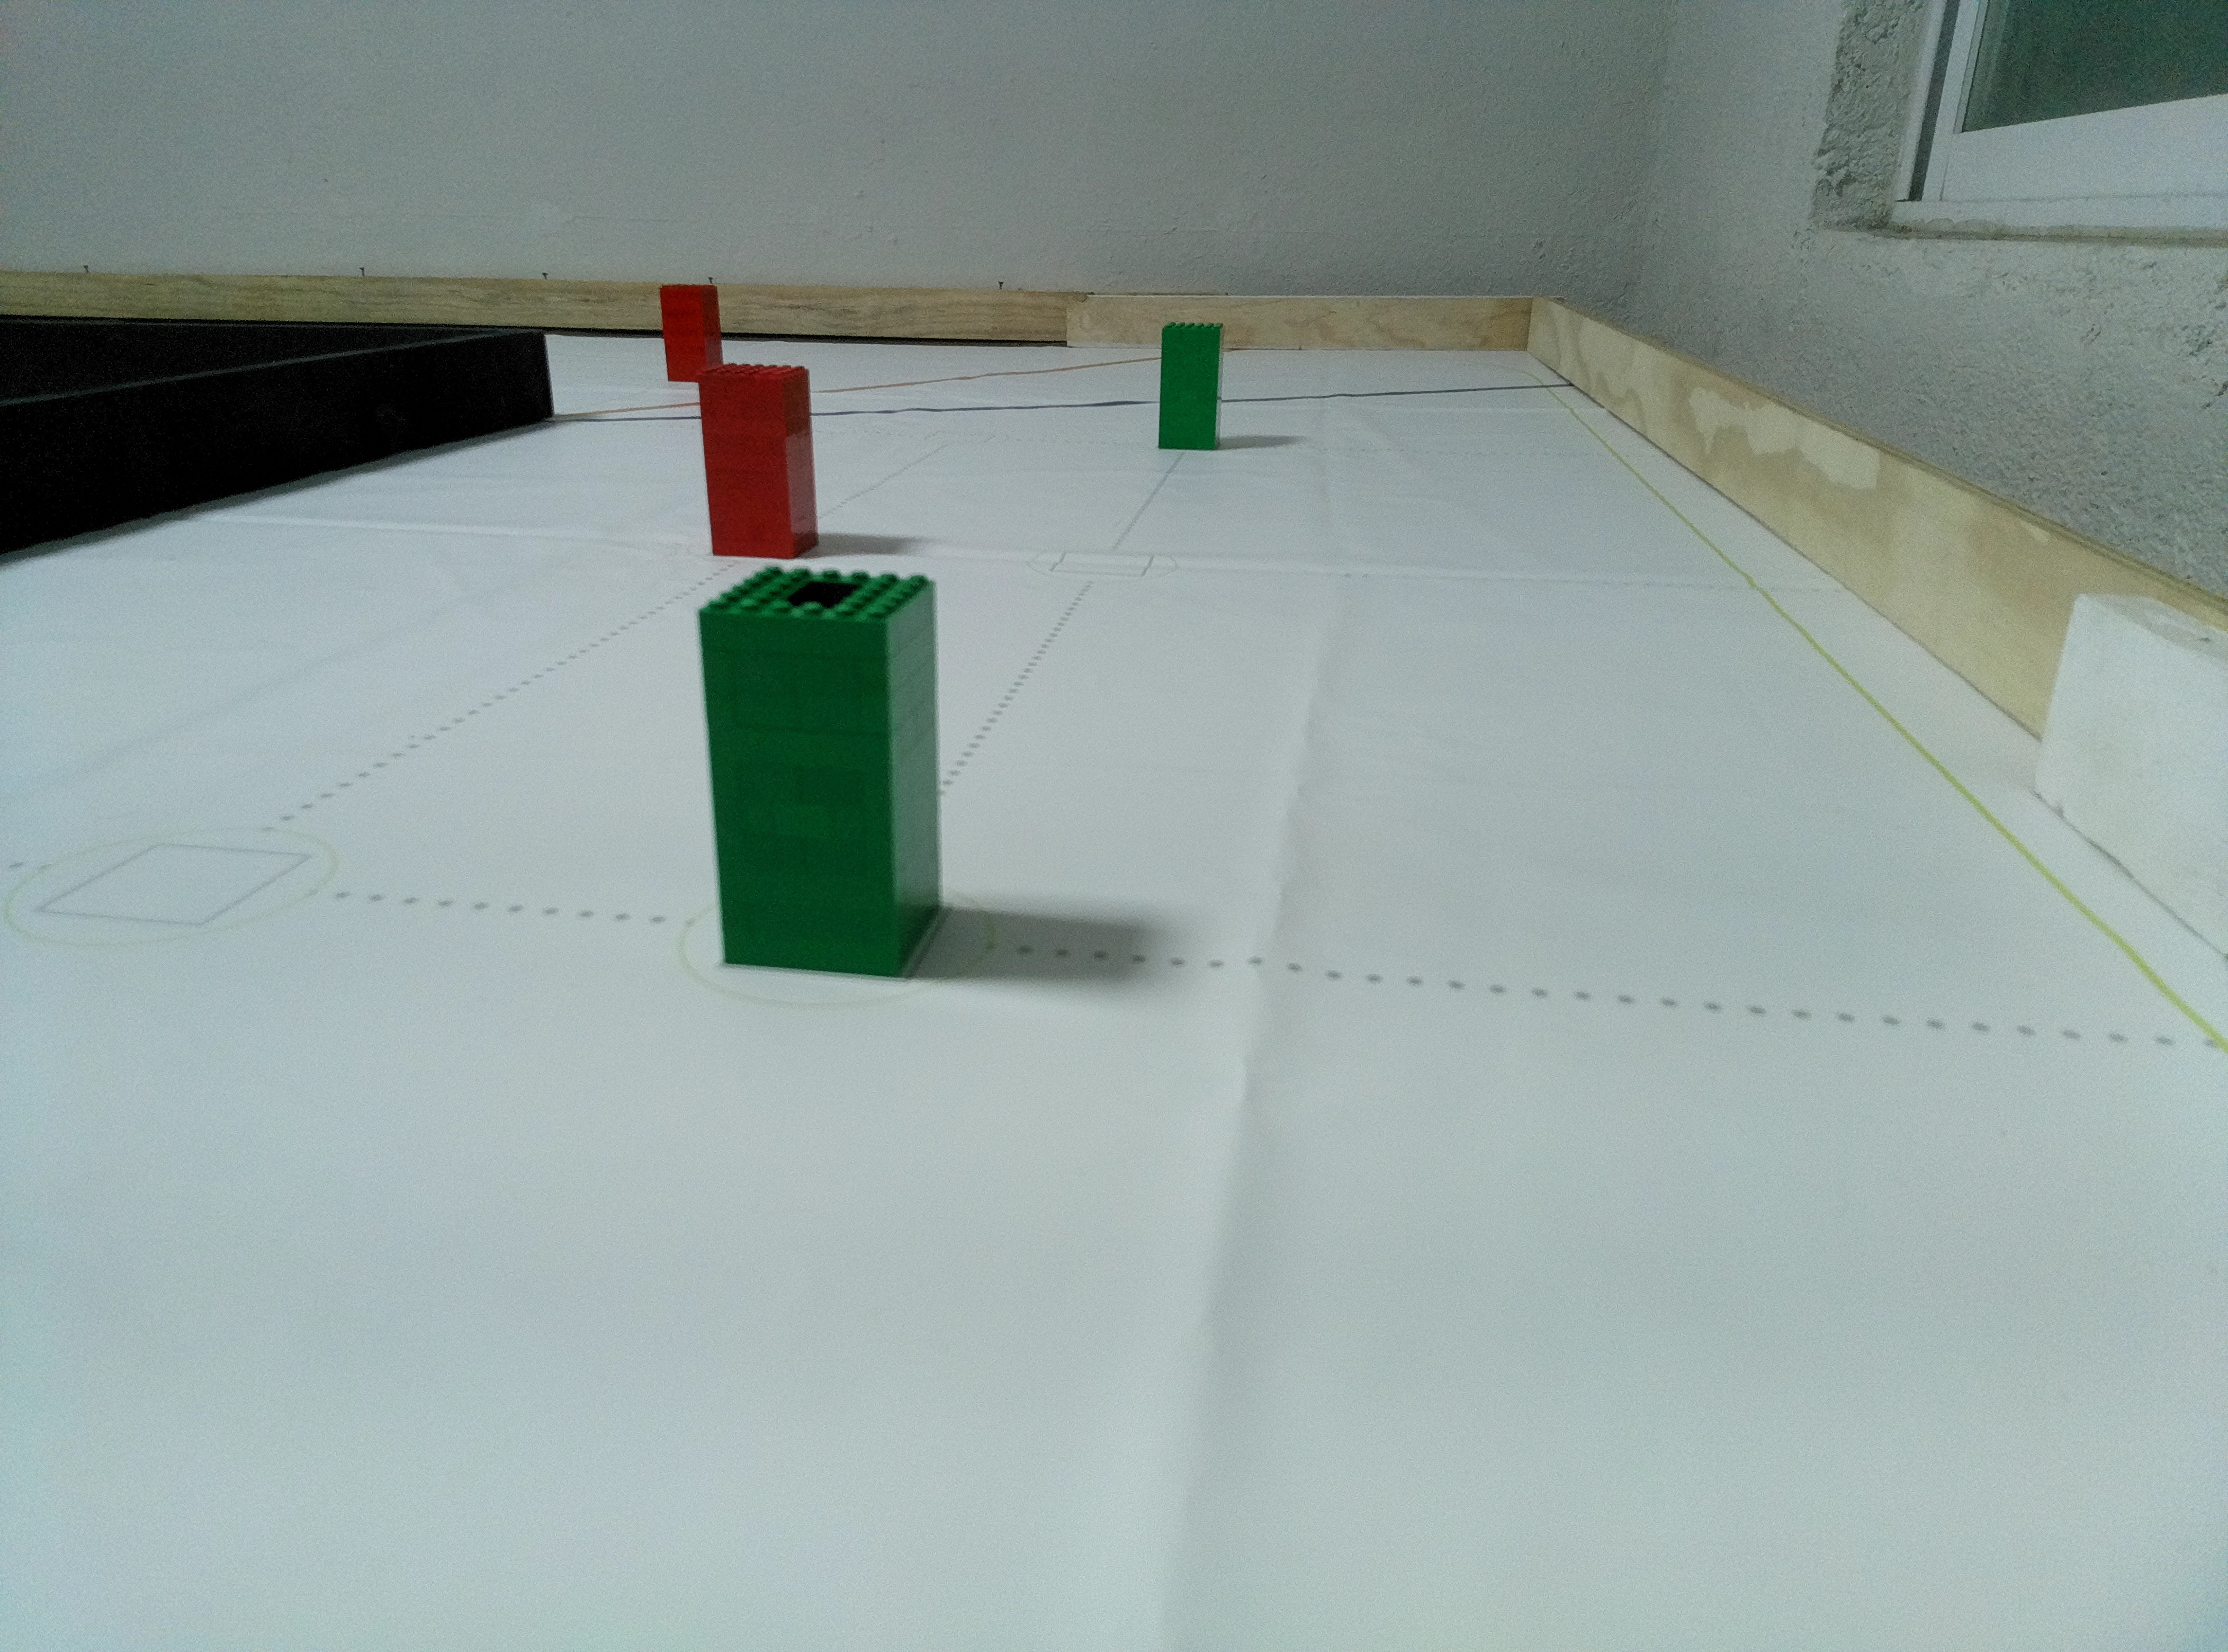greenbox: (689, 567, 949, 982)
redbox: (696, 363, 819, 560), (658, 283, 725, 383)
